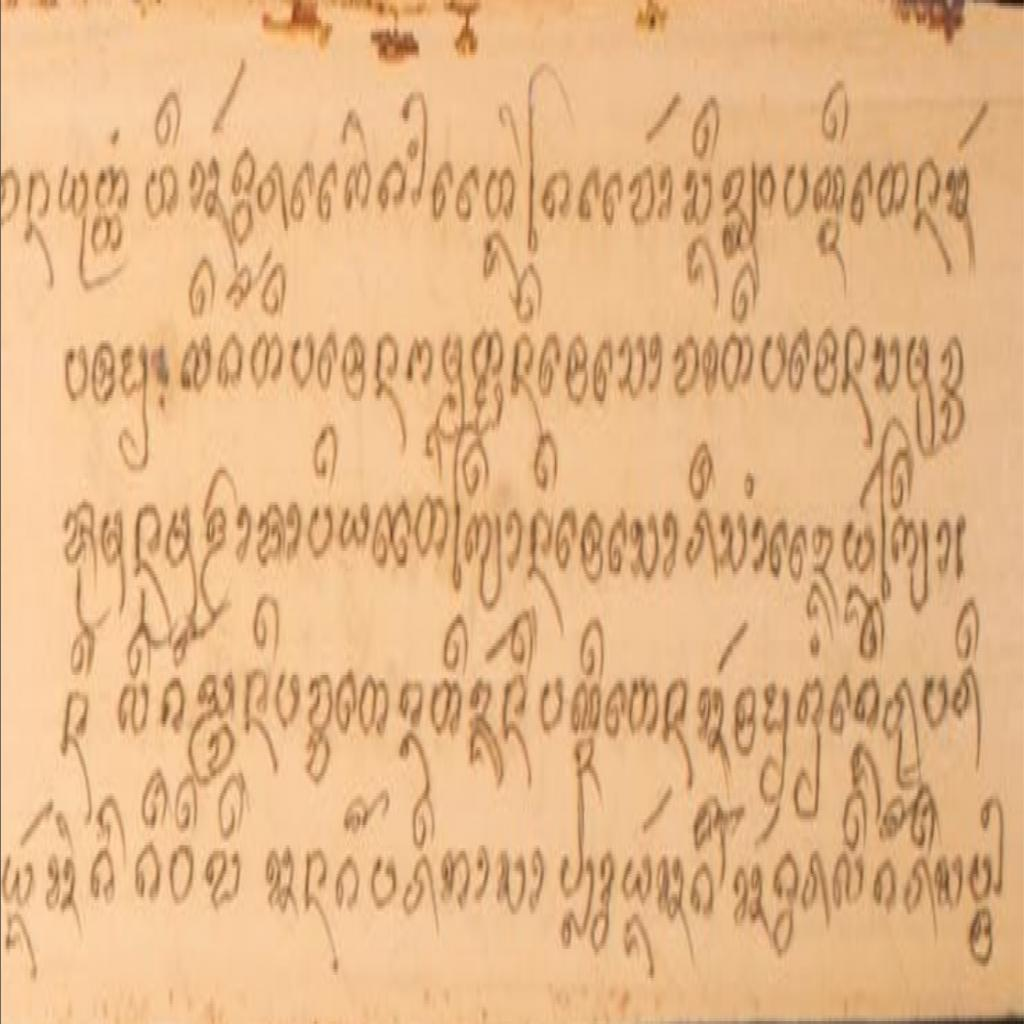LN003: (689, 857, 717, 925)
LN020: (256, 496, 288, 576)
